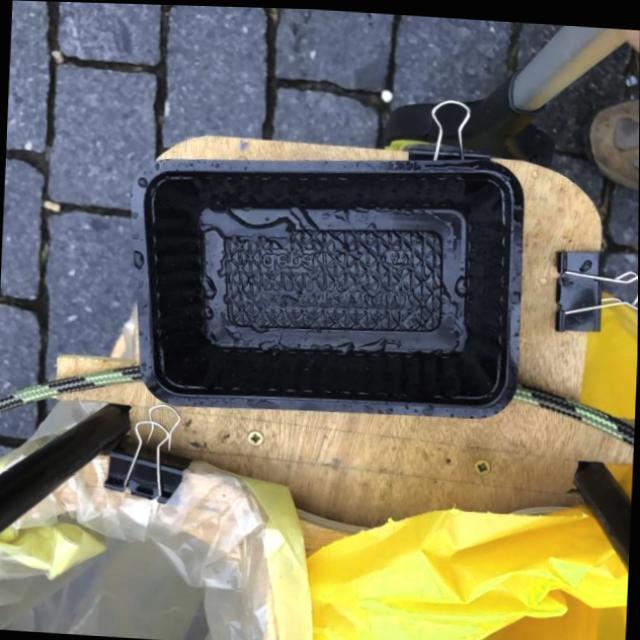Plastic: (119, 128, 531, 428)
